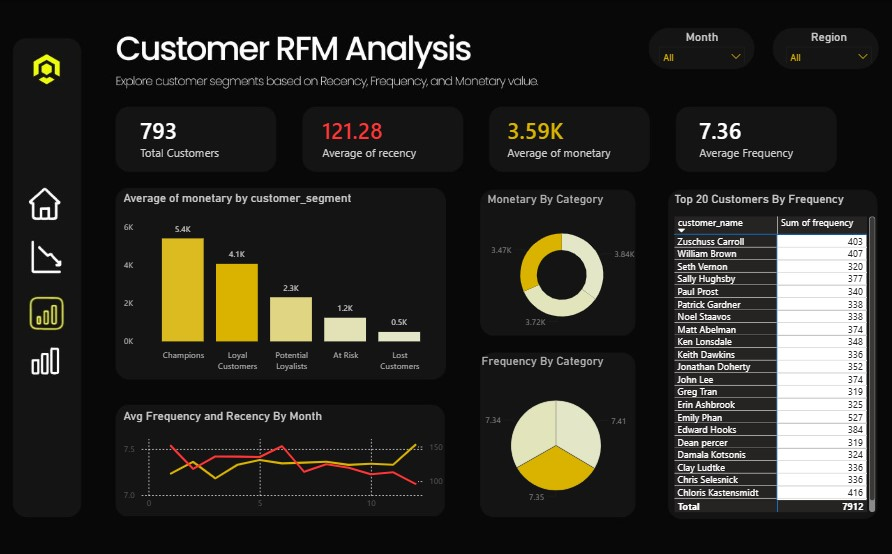

This screenshot's page, from the dashboard's own definition file:
{"tool":"powerbi","page":{"name":"Customer RFM Analysis","canvas":[1300,800],"ordinal":2},"visuals":[{"type":"cardVisual","title":"Total Customers","fields":{"Data":["measure.Total Customers"]},"box":[181.7,145,225,103.3],"z":0},{"type":"cardVisual","fields":{"Data":["Avg(FinalChurn_PBI.recency)"]},"box":[443.3,145,225,103.3],"z":1000},{"type":"cardVisual","fields":{"Data":["Avg(FinalChurn_PBI.monetary)"]},"box":[708.3,145,236.7,103.3],"z":2000},{"type":"cardVisual","fields":{"Data":["Avg(FinalChurn_PBI.frequency)"]},"box":[983.3,145,225,103.3],"z":3000},{"type":"clusteredColumnChart","fields":{"Category":["FinalChurn_PBI.customer_segment"],"Y":["Avg(FinalChurn_PBI.monetary)"]},"box":[182.3,274.2,468.5,266.6],"z":4000},{"type":"donutChart","title":"Monetary By Category","fields":{"Y":["Avg(FinalChurn_PBI.monetary)"],"Category":["FinalChurn_PBI.category"]},"box":[703.5,275.7,222.9,207.9],"z":5000},{"type":"pieChart","title":"Frequency By Category","fields":{"Category":["FinalChurn_PBI.category"],"Y":["Avg(FinalChurn_PBI.frequency)"]},"box":[705,507.6,212.4,232],"z":6000},{"type":"lineChart","title":"Avg Frequency and Recency By Month","fields":{"Category":["FinalChurn_PBI.order_month"],"Y":["Avg(FinalChurn_PBI.frequency)"],"Y2":["Avg(FinalChurn_PBI.recency)"]},"box":[182.3,586,468.5,153.7],"z":7000},{"type":"pageNavigator","box":[38.3,260,71.7,66.7],"z":8000},{"type":"pageNavigator","box":[37.7,334.4,71.7,66.7],"z":9000},{"type":"pageNavigator","box":[37.7,483.5,71.7,76.7],"z":10000},{"type":"slicer","title":"Month","fields":{"Values":["FinalChurn_PBI.order_month"]},"box":[945,43.3,143.3,48.3],"z":10001},{"type":"slicer","title":"Region","fields":{"Values":["FinalChurn_PBI.region"]},"box":[1126.7,43.3,143.3,48.3],"z":10002},{"type":"pivotTable","title":"Top 20 Customers By Frequency","fields":{"Rows":["FinalChurn_PBI.customer_name"],"Values":["Sum(FinalChurn_PBI.frequency)"]},"box":[971.6,275.7,298.3,464],"z":10003}]}

Visuals, with their boxes on the page's 1300x800 design canvas (x1, y1, x2, y2). These are canvas units, not pixel positions in the 892x554 screenshot, which may show the page scaled, cropped or inside an application window:
"Total Customers" cardVisual: (182,145,407,248)
cardVisual - Avg(FinalChurn_PBI.recency): (443,145,668,248)
cardVisual - Avg(FinalChurn_PBI.monetary): (708,145,945,248)
cardVisual - Avg(FinalChurn_PBI.frequency): (983,145,1208,248)
clusteredColumnChart - FinalChurn_PBI.customer_segment x Avg(FinalChurn_PBI.monetary): (182,274,651,541)
"Monetary By Category" donutChart: (704,276,926,484)
"Frequency By Category" pieChart: (705,508,917,740)
"Avg Frequency and Recency By Month" lineChart: (182,586,651,740)
pageNavigator: (38,260,110,327)
pageNavigator: (38,334,109,401)
pageNavigator: (38,484,109,560)
"Month" slicer: (945,43,1088,92)
"Region" slicer: (1127,43,1270,92)
"Top 20 Customers By Frequency" pivotTable: (972,276,1270,740)
